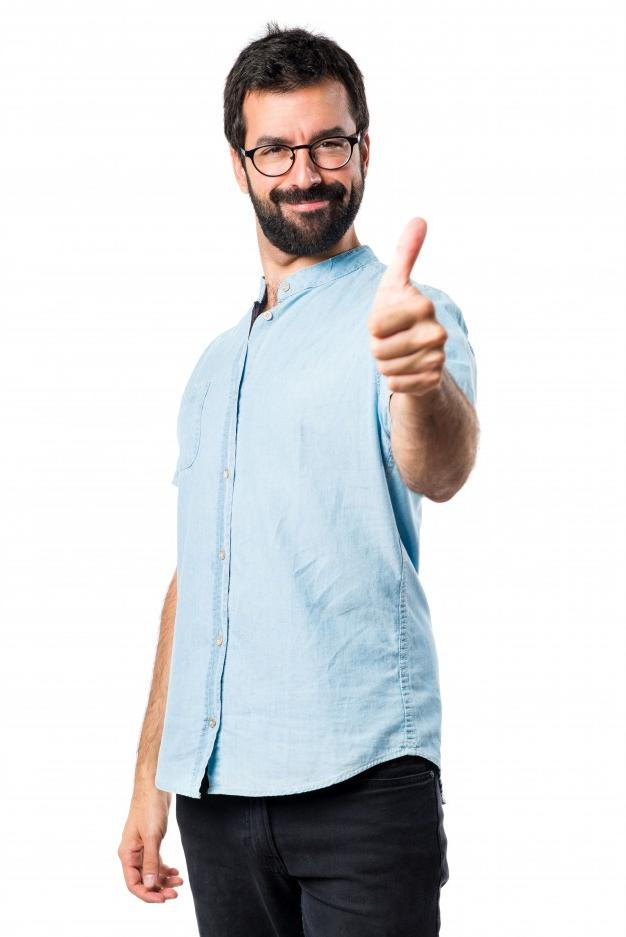thumbsup: (371, 216, 448, 393)
